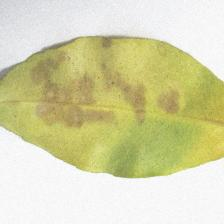black spot: (28, 45, 182, 130)
